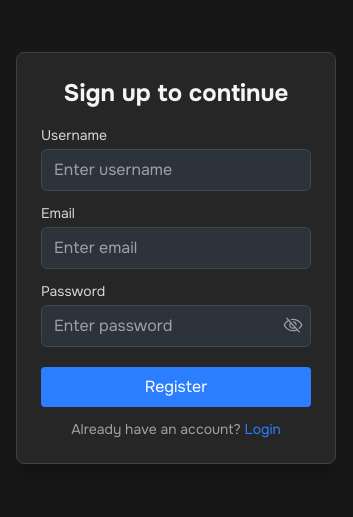
Test: User Registration and Login Flow › Registration Form › shows validation errors for empty fields
The width and height of the screenshot is (353, 517).
Click the button with test id "register-button". click: [176, 387]
box: [41, 367, 311, 407]
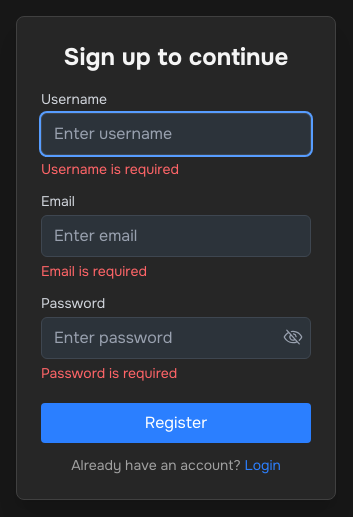
Now the text "Username is required" is shown, box [41, 160, 179, 178]
Now the text "Email is required" is shown, box [41, 262, 147, 280]
Now the text "Password is required" is shown, box [41, 364, 177, 382]
